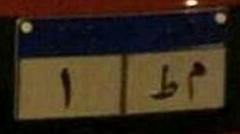1: (56, 64, 77, 112)
Taa: (147, 62, 179, 105)
meem: (185, 57, 208, 104)
